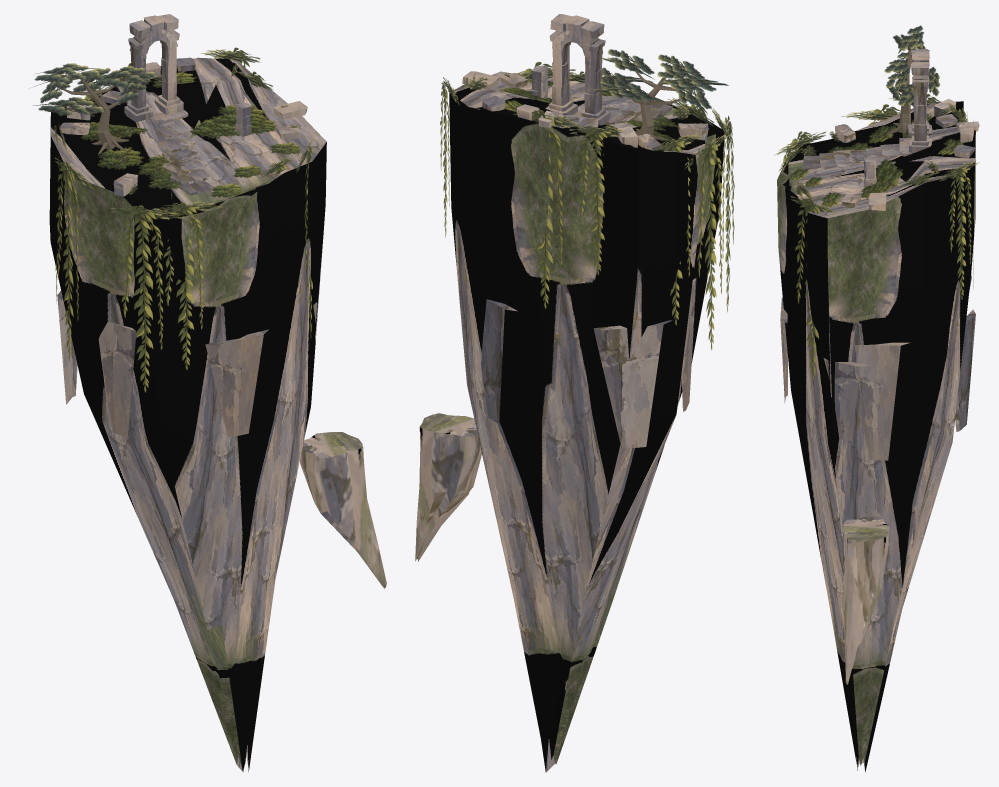
Rendered from tall-spire.glb.
3 views of the same model, side by side, from view 1: azimuth 30°, elevation 25°; view 2: azimuth 150°, elevation 25°; view 3: azimuth 270°, elevation 25° (orthographic). The views are drawn at different scales.
Visible parts, largest first — view 1: tall-spire-continuous-fractured-stone, tall-spire-ruins-path-and-splintered-ledges, tall-spire-painted-pine-ivy-and-moss, tall-spire-long-hanging-vine-quads, tall-spire-satellite-0-continuous-fractured-stone, tall-spire-summit-soil-and-bent-trunks; view 2: tall-spire-continuous-fractured-stone, tall-spire-ruins-path-and-splintered-ledges, tall-spire-long-hanging-vine-quads, tall-spire-painted-pine-ivy-and-moss, tall-spire-satellite-0-continuous-fractured-stone, tall-spire-summit-soil-and-bent-trunks; view 3: tall-spire-continuous-fractured-stone, tall-spire-ruins-path-and-splintered-ledges, tall-spire-painted-pine-ivy-and-moss, tall-spire-satellite-0-continuous-fractured-stone, tall-spire-long-hanging-vine-quads, tall-spire-summit-soil-and-bent-trunks.
Boxes of the visible parts, x1,y1,x2,y2 form: tall-spire-continuous-fractured-stone: (49, 57, 326, 772); tall-spire-ruins-path-and-splintered-ledges: (57, 14, 317, 437); tall-spire-painted-pine-ivy-and-moss: (29, 49, 312, 219); tall-spire-long-hanging-vine-quads: (54, 47, 313, 392); tall-spire-satellite-0-continuous-fractured-stone: (300, 432, 386, 588); tall-spire-summit-soil-and-bent-trunks: (58, 77, 128, 154); tall-spire-continuous-fractured-stone: (449, 71, 724, 772); tall-spire-ruins-path-and-splintered-ledges: (462, 14, 708, 448); tall-spire-long-hanging-vine-quads: (440, 62, 734, 349); tall-spire-painted-pine-ivy-and-moss: (443, 49, 732, 168); tall-spire-satellite-0-continuous-fractured-stone: (415, 413, 481, 561); tall-spire-summit-soil-and-bent-trunks: (631, 71, 680, 140); tall-spire-continuous-fractured-stone: (777, 101, 975, 771); tall-spire-ruins-path-and-splintered-ledges: (780, 49, 979, 460); tall-spire-painted-pine-ivy-and-moss: (774, 25, 979, 213); tall-spire-satellite-0-continuous-fractured-stone: (842, 516, 889, 684); tall-spire-long-hanging-vine-quads: (783, 93, 973, 379); tall-spire-summit-soil-and-bent-trunks: (886, 43, 911, 137).
Bounding box in the file's own units: 24.67 × 53.05 × 15.15.
6 materials, 5 textured.
